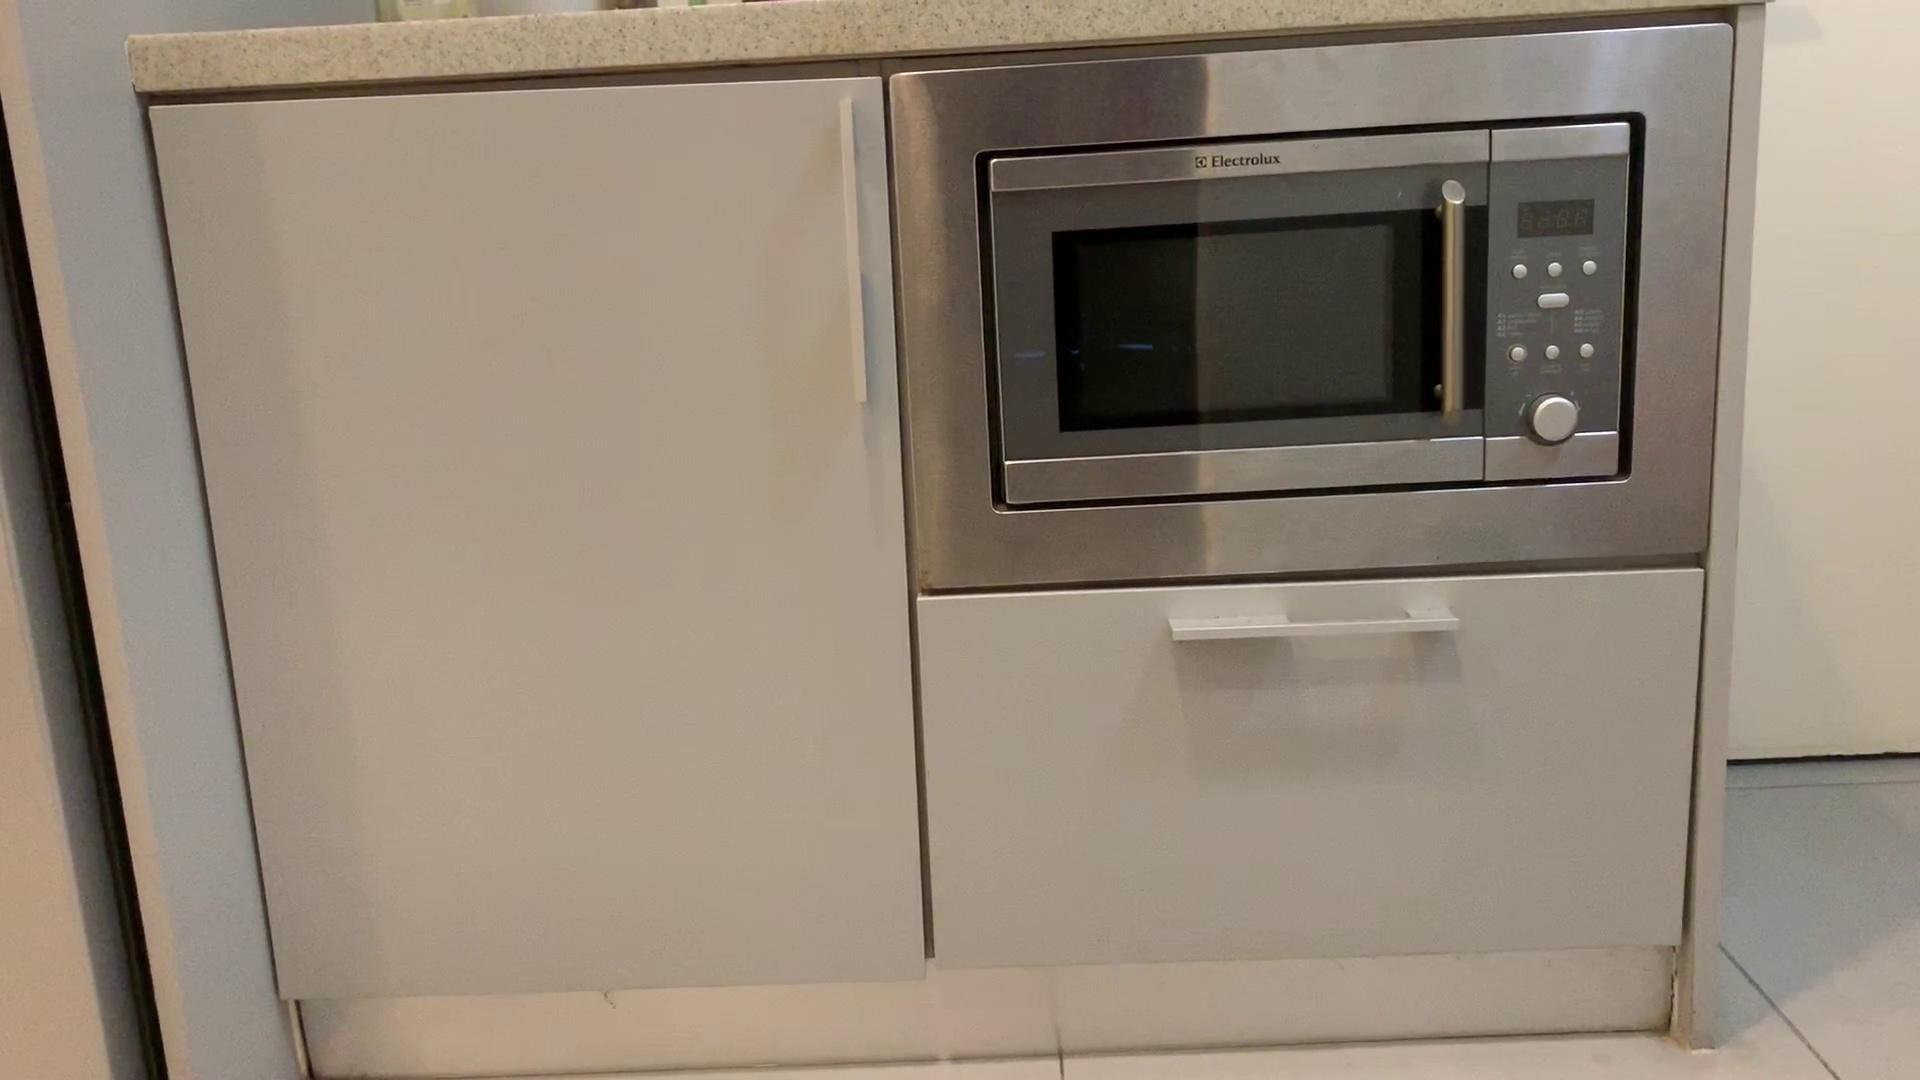cabinet_door: (79, 78, 903, 1025), (920, 584, 1695, 967)
handle: (1160, 595, 1491, 658), (825, 90, 880, 411)
